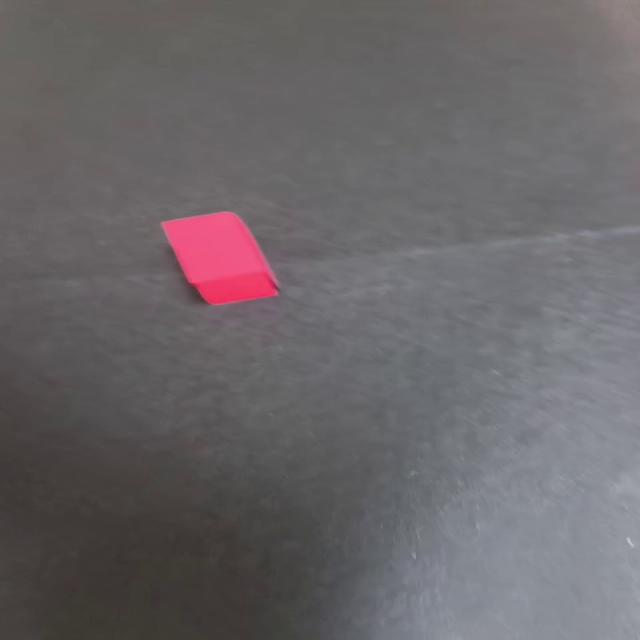red block: (159, 210, 280, 306)
